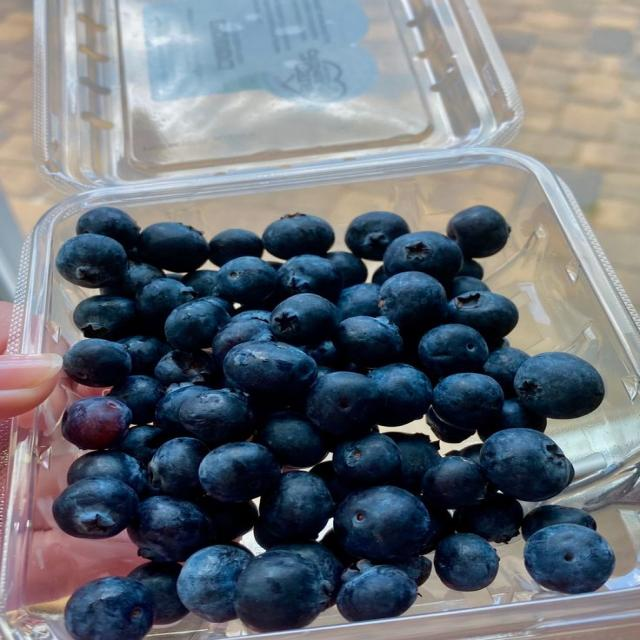blueberry: (235, 551, 330, 632), (334, 487, 429, 561), (480, 428, 573, 501), (525, 524, 614, 593), (514, 353, 604, 418), (178, 545, 252, 622), (254, 471, 333, 543), (65, 577, 153, 639), (127, 496, 210, 561), (224, 341, 317, 397), (53, 478, 138, 538), (307, 372, 381, 438), (199, 442, 280, 502), (179, 387, 254, 447), (337, 565, 417, 621), (273, 542, 343, 606), (255, 412, 327, 468), (379, 272, 446, 332), (369, 364, 432, 426), (384, 231, 462, 281), (433, 374, 503, 429), (56, 234, 127, 288), (419, 324, 488, 379), (448, 291, 518, 345), (434, 534, 499, 591), (128, 563, 188, 624), (149, 438, 208, 499), (270, 293, 339, 345), (62, 397, 131, 449), (138, 222, 208, 273), (67, 451, 147, 495), (334, 433, 400, 486), (334, 316, 402, 367), (212, 312, 275, 366), (454, 493, 523, 542), (262, 213, 334, 259), (386, 432, 440, 493), (447, 206, 510, 258), (422, 457, 486, 508), (63, 339, 131, 387), (165, 300, 230, 350), (346, 212, 410, 260), (277, 254, 341, 301), (197, 496, 258, 544), (136, 278, 197, 326), (217, 256, 277, 304), (479, 399, 546, 441), (74, 295, 136, 339), (109, 376, 165, 424), (76, 207, 139, 249), (522, 505, 596, 540), (155, 385, 201, 439), (101, 261, 165, 299), (154, 350, 217, 385), (484, 348, 529, 397), (116, 425, 170, 465), (119, 336, 171, 375), (311, 461, 358, 504), (209, 229, 263, 266), (420, 499, 454, 554), (426, 407, 475, 443), (320, 529, 360, 567), (337, 284, 380, 319), (325, 252, 366, 287), (385, 556, 432, 585), (300, 341, 343, 369), (181, 270, 219, 296), (447, 276, 489, 298), (200, 295, 235, 320), (447, 443, 481, 463), (231, 309, 271, 323), (457, 259, 484, 279), (372, 265, 390, 285), (488, 338, 510, 352), (318, 366, 335, 378), (267, 261, 283, 270), (165, 273, 182, 281)
